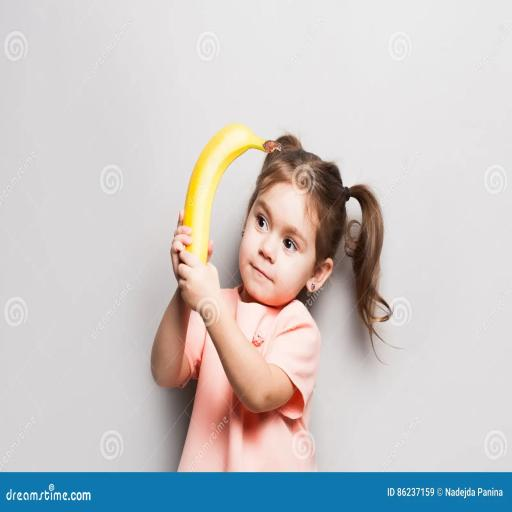banana: (184, 124, 281, 263)
